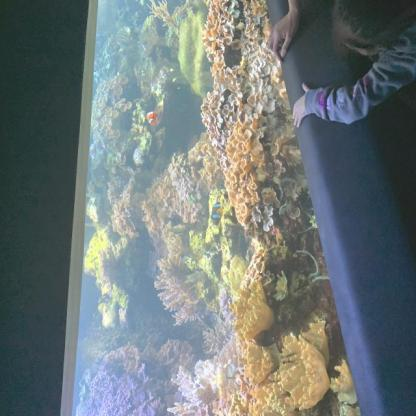fish: (212, 200, 224, 232), (146, 111, 158, 126)
